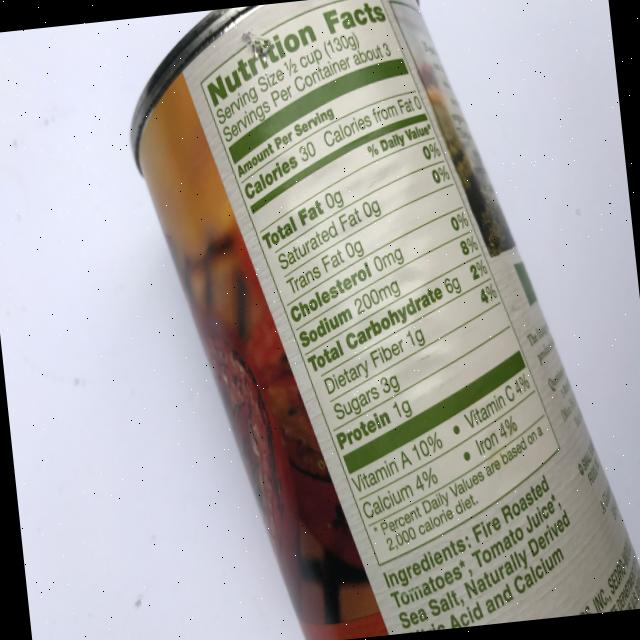metal: (116, 0, 640, 640)
